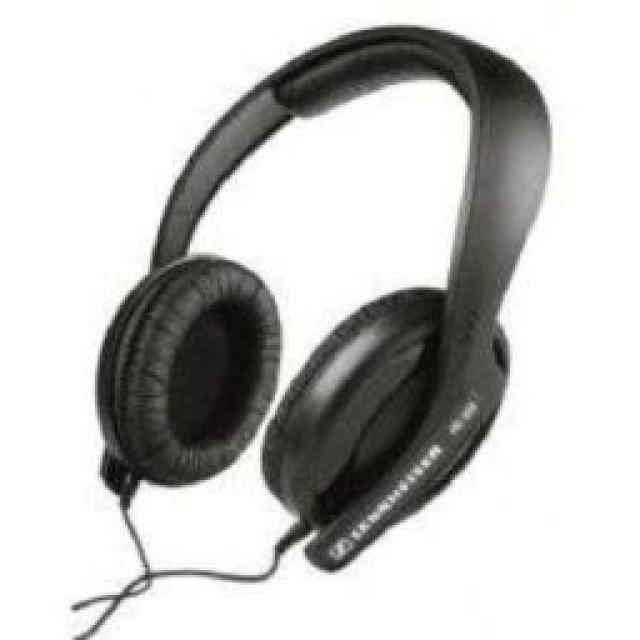headphones: (92, 20, 552, 572)
